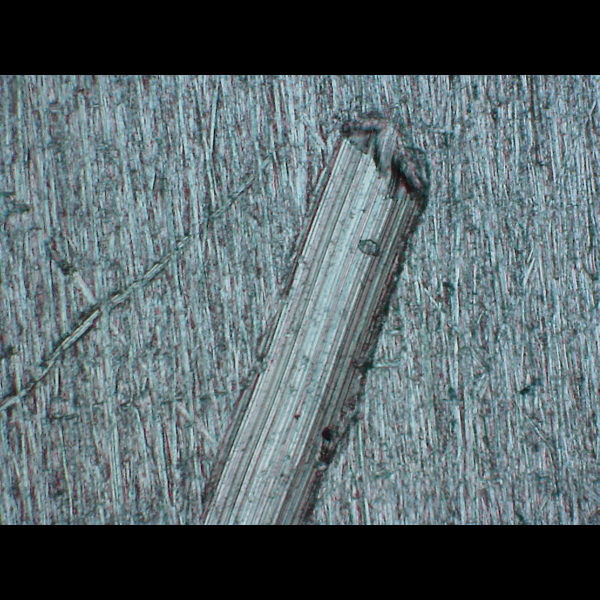d: (191, 97, 439, 525)
